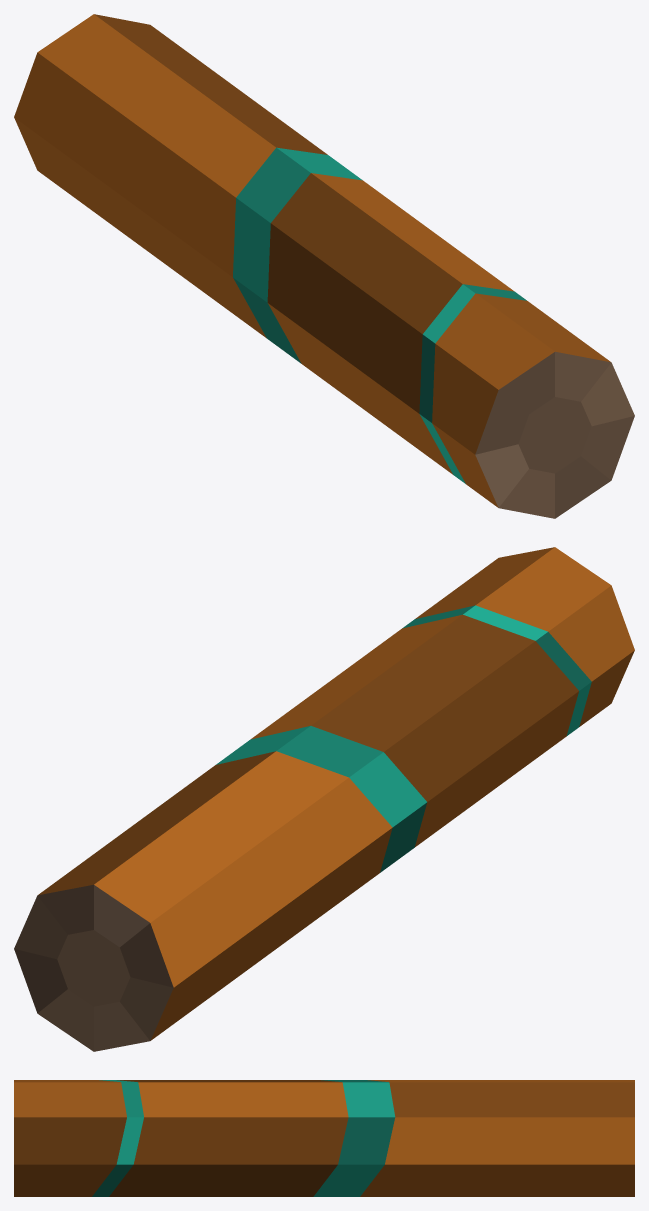
The model's file is Prop_TextileD.fbx.
The picture shows the model from 3 angles, top to bottom: view 1: azimuth 30°, elevation 25°; view 2: azimuth 150°, elevation 25°; view 3: azimuth 270°, elevation 25°; orthographic projection. The views are drawn at different scales.
Parts seen in each view (by area): view 1: Prop_TextileD; view 2: Prop_TextileD; view 3: Prop_TextileD.
Boxes of the visible parts, x1,y1,x2,y2 form: Prop_TextileD: [14, 14, 634, 518]; Prop_TextileD: [14, 547, 634, 1051]; Prop_TextileD: [14, 1080, 634, 1196].
Bounding box in the file's own units: 20 × 20 × 100.
